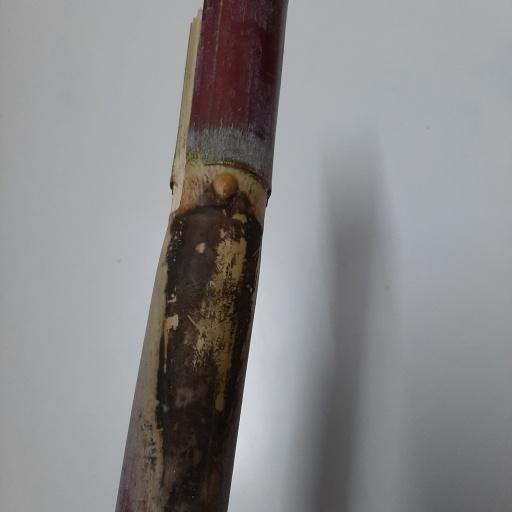Bud: (211, 170, 239, 203)
